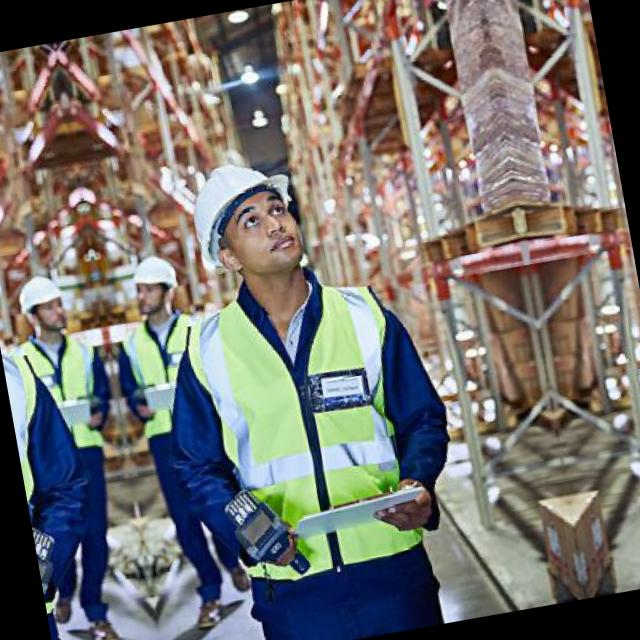helmet: (176, 139, 317, 306), (120, 245, 186, 326), (11, 264, 77, 345)
